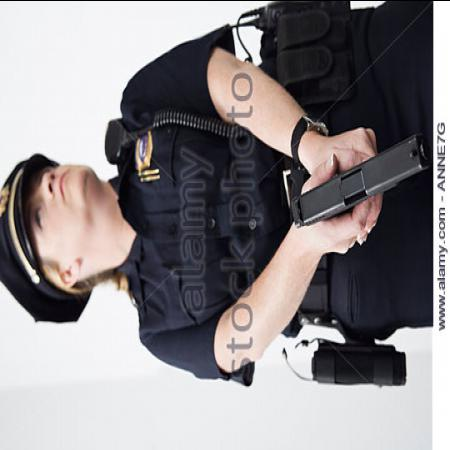Pistol: (292, 124, 432, 238)
